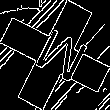M_SW: (23, 22, 87, 88)
